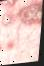plaque psoriasis: (16, 0, 44, 28), (0, 0, 34, 10), (0, 39, 18, 53), (0, 12, 14, 27)
